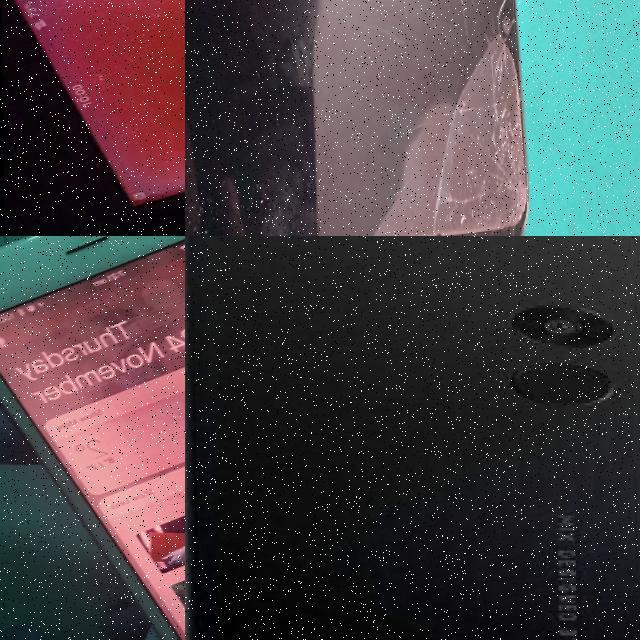screen crack: (360, 0, 533, 223)
